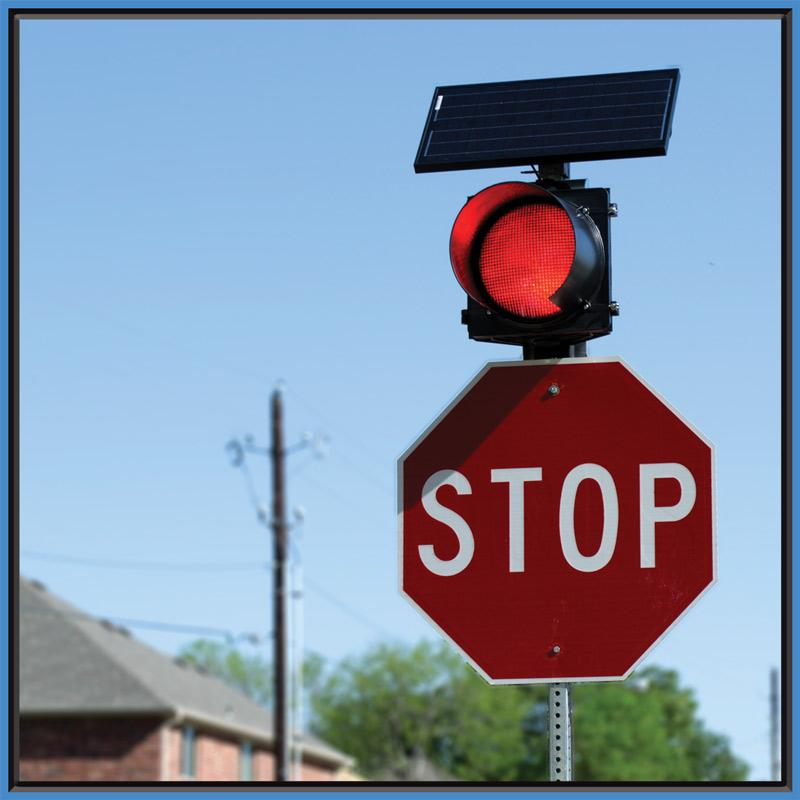red: (438, 178, 658, 344)
